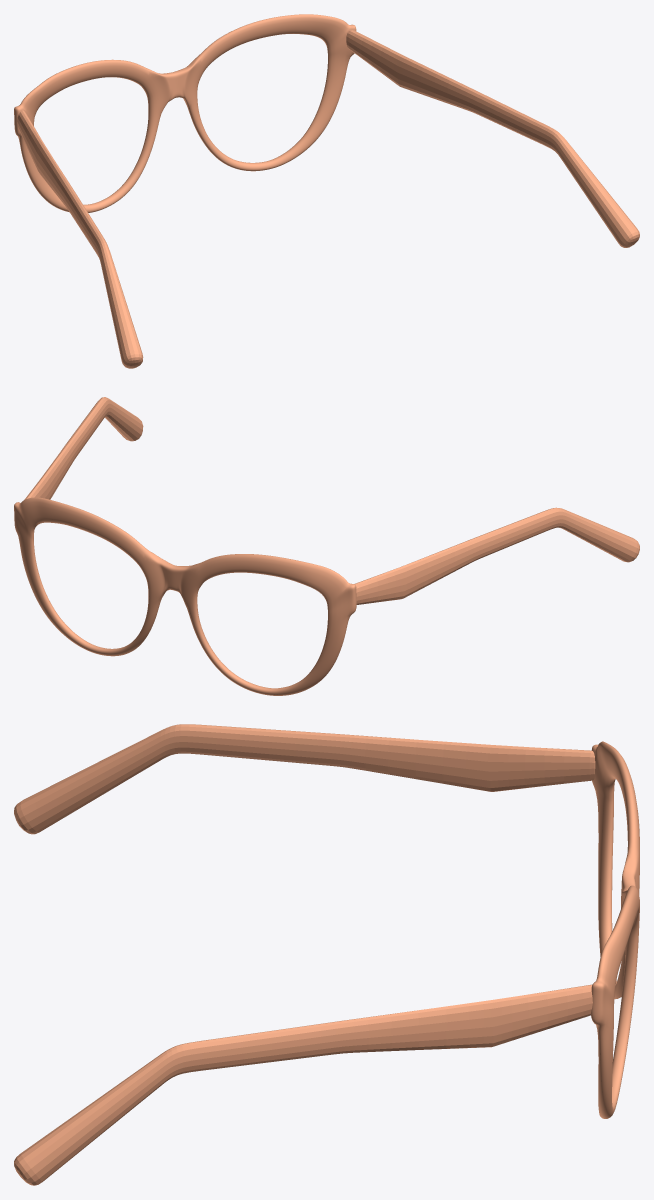
File: cateye.fbx
3 renders of one model, top to bottom at view 1: azimuth 30°, elevation 25°; view 2: azimuth 150°, elevation 25°; view 3: azimuth 270°, elevation 25°, orthographic. The views are drawn at different scales.
Visible parts, largest first — view 1: frame.001; view 2: frame.001; view 3: frame.001.
Boxes of the visible parts, box(x1,y1,x2,y2) form: frame.001: box(14, 14, 639, 368); frame.001: box(14, 397, 639, 695); frame.001: box(14, 724, 639, 1185).
Bounding box in the file's own units: 18.15 × 4.88 × 13.15.
